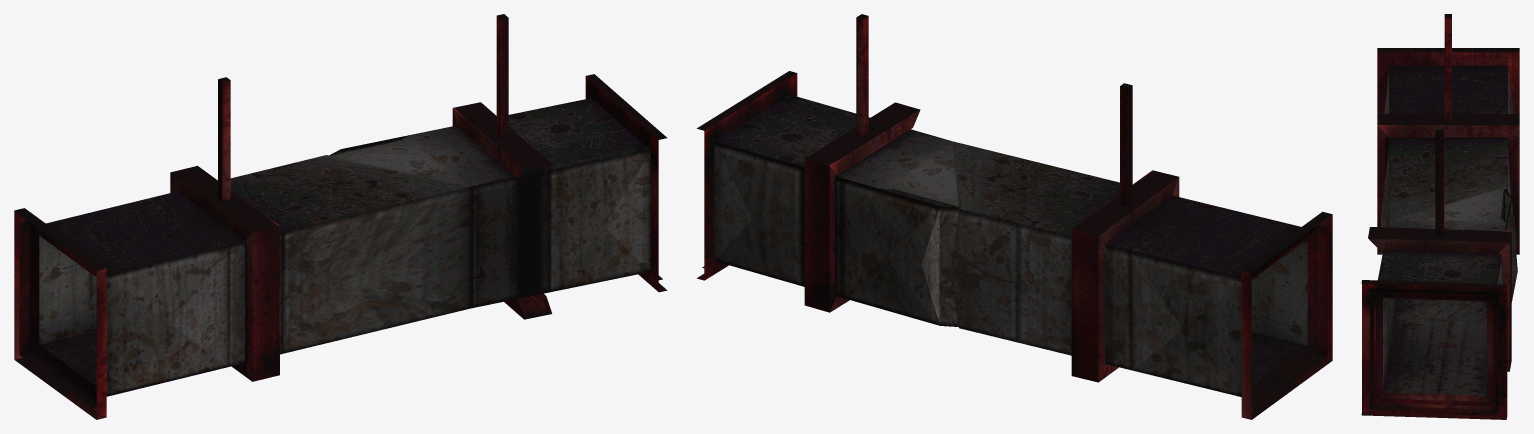
File: straightairpipe.obj
3 views of the same model, side by side, from view 1: azimuth 30°, elevation 25°; view 2: azimuth 150°, elevation 25°; view 3: azimuth 270°, elevation 25° (orthographic). The views are drawn at different scales.
Parts seen in each view (by area): view 1: Group; view 2: Group; view 3: Group.
Boxes of the visible parts, box(x1,y1,x2,y2) form: Group: box(14, 14, 667, 419); Group: box(696, 14, 1332, 419); Group: box(1361, 14, 1519, 419).
Bounding box in the file's own units: 308 × 139 × 85.01.
Materials: 1 (1 with a texture image).
